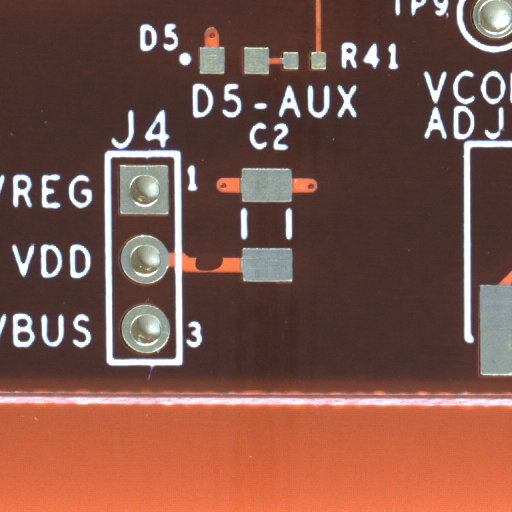Mouse_bite: (209, 262, 242, 288)
